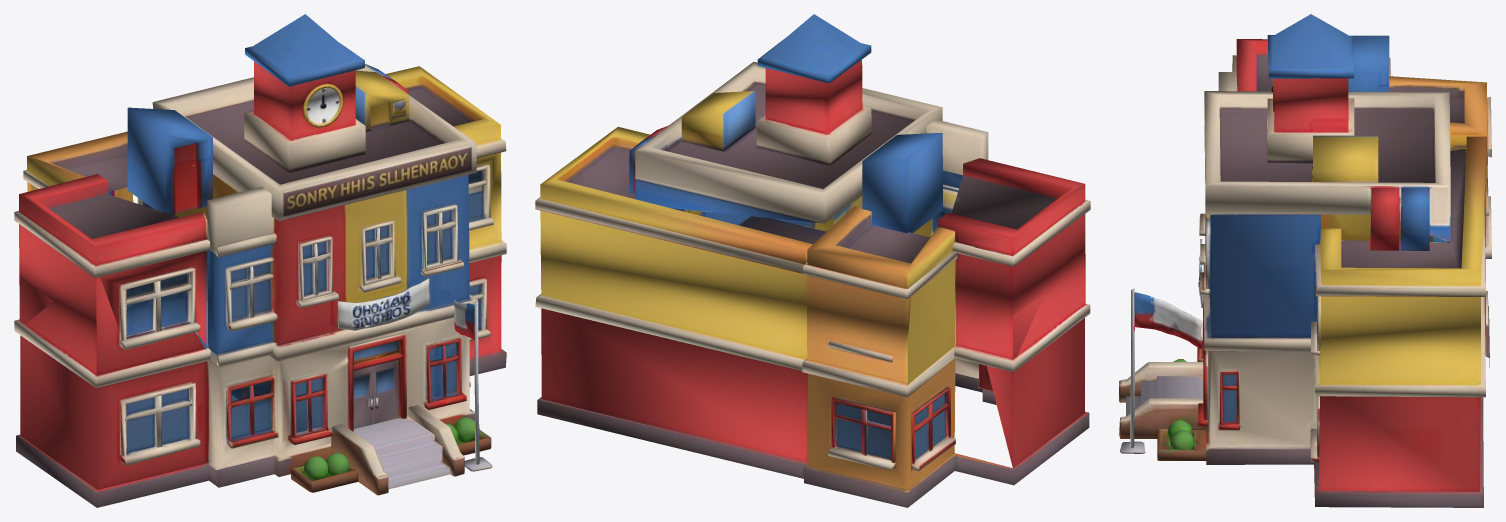
The picture shows the model from 3 angles, left to right: view 1: azimuth 30°, elevation 25°; view 2: azimuth 150°, elevation 25°; view 3: azimuth 270°, elevation 25°; orthographic projection. The views are drawn at different scales.
Parts seen in each view (by area): view 1: tripo_node_17ff8383-ae4c-4ca7-ac4a-a6098e836cc1; view 2: tripo_node_17ff8383-ae4c-4ca7-ac4a-a6098e836cc1; view 3: tripo_node_17ff8383-ae4c-4ca7-ac4a-a6098e836cc1.
Boxes of the visible parts, left/top/right/bottom form: tripo_node_17ff8383-ae4c-4ca7-ac4a-a6098e836cc1: left=14, top=14, right=506, bottom=507; tripo_node_17ff8383-ae4c-4ca7-ac4a-a6098e836cc1: left=535, top=14, right=1090, bottom=507; tripo_node_17ff8383-ae4c-4ca7-ac4a-a6098e836cc1: left=1119, top=14, right=1491, bottom=507.
Bounding box in the file's own units: 0.998 × 0.8535 × 0.7246.
Materials: 1 (1 with a texture image).
